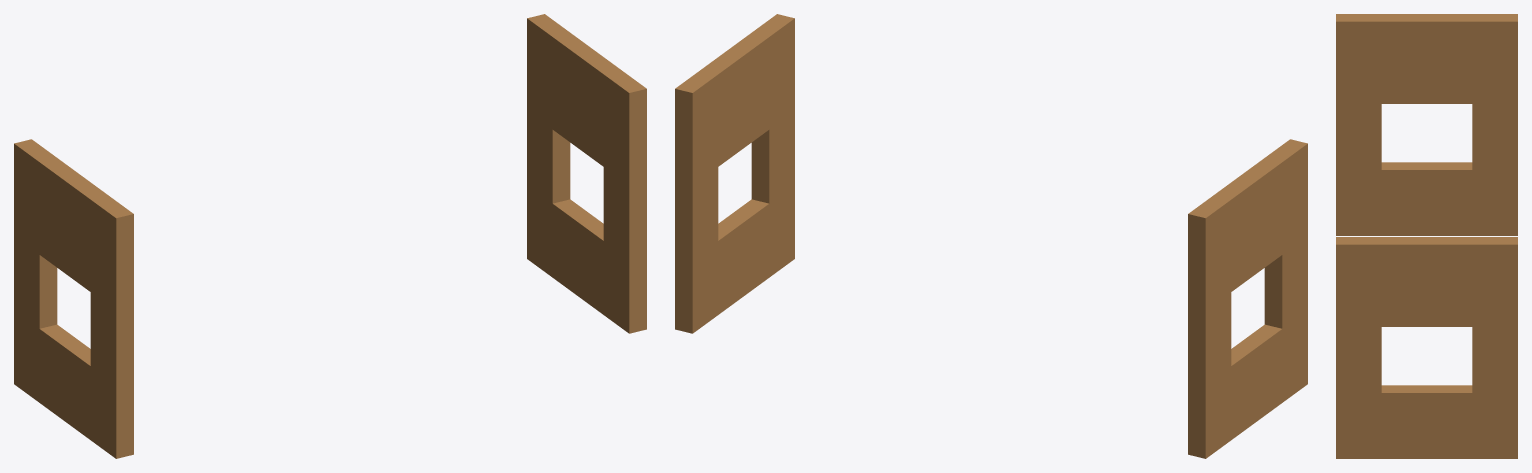
Rendered from MIDDLE_CENTRE_GUN.glb.
3 renders of one model, left to right at view 1: azimuth 30°, elevation 25°; view 2: azimuth 150°, elevation 25°; view 3: azimuth 270°, elevation 25°, orthographic. The views are drawn at different scales.
Size of the model in its own units: 6 by 2.6 by 2.
